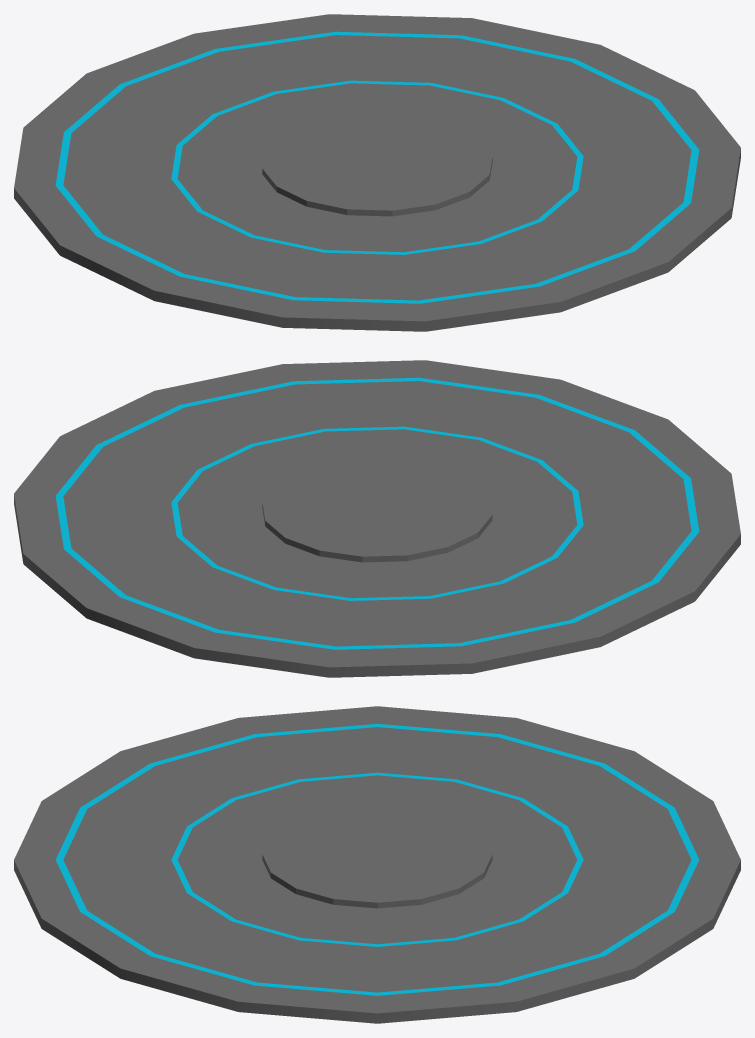
File: WaveFloor.fbx
The picture shows the model from 3 angles, top to bottom: view 1: azimuth 30°, elevation 25°; view 2: azimuth 150°, elevation 25°; view 3: azimuth 270°, elevation 25°; orthographic projection.
Parts seen in each view (by area): view 1: pCylinder1; view 2: pCylinder1; view 3: pCylinder1.
Part boxes in pixels (x1,y1,x2,y2): pCylinder1: (14, 14, 740, 331); pCylinder1: (14, 360, 740, 677); pCylinder1: (14, 706, 740, 1023).
Size of the model in its own units: 2.52 by 0.0616 by 2.52.
